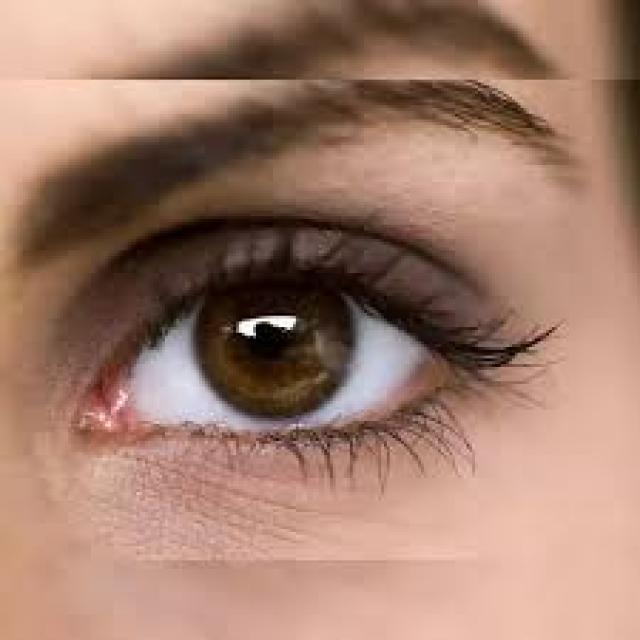Eyes-iris: (186, 273, 358, 423)
